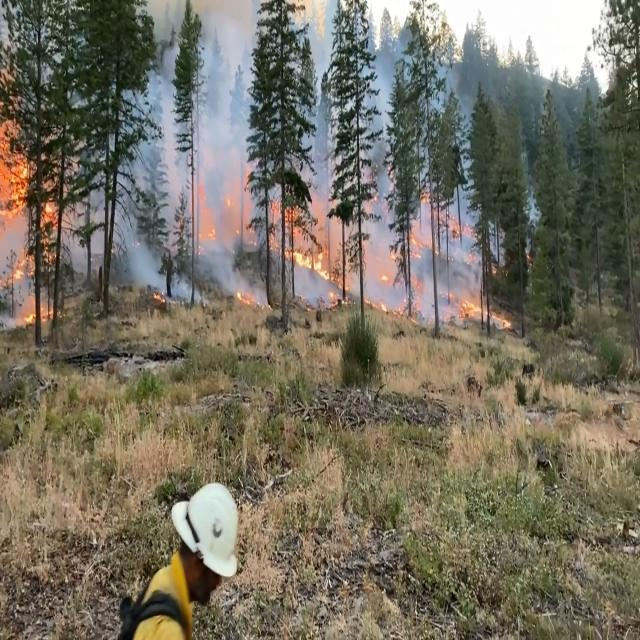Fire: (179, 164, 502, 336)
